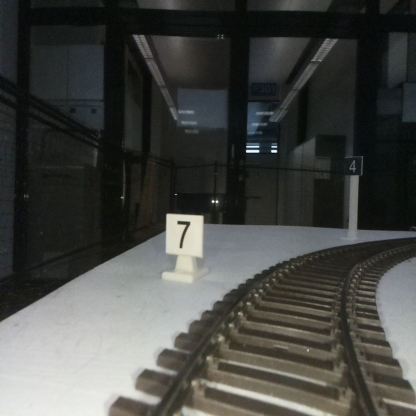black-info-4: (345, 156, 361, 240)
white-stop-7: (166, 214, 202, 278)
